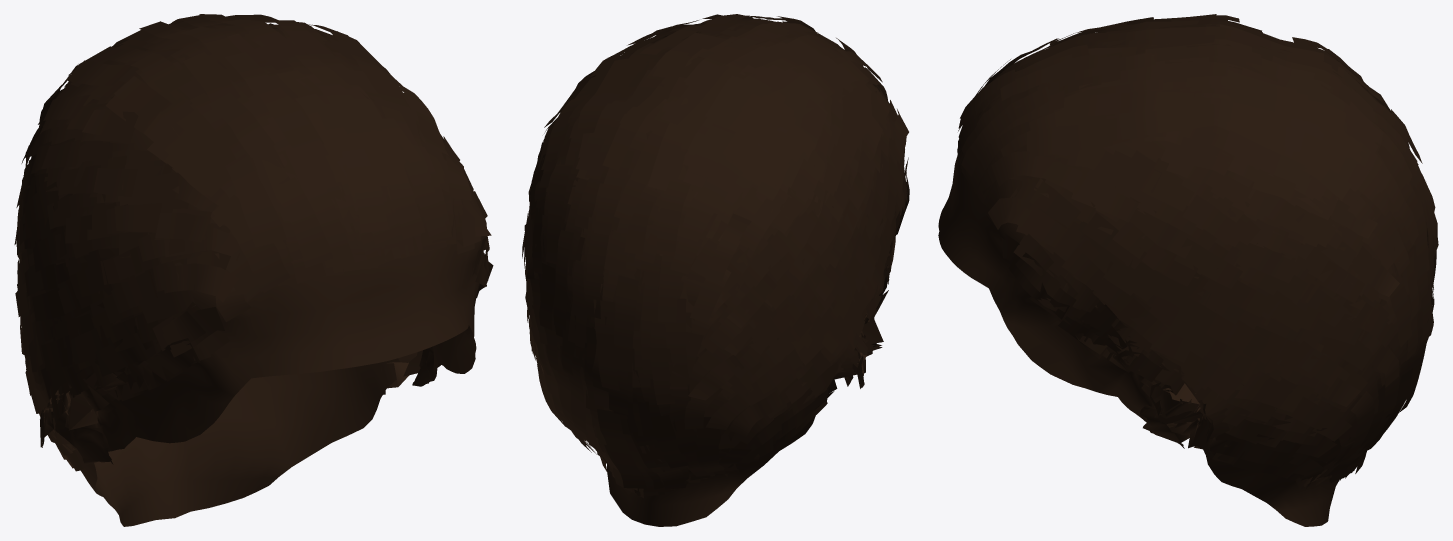
The model's file is hair_short.glb.
The picture shows the model from 3 angles, left to right: view 1: azimuth 30°, elevation 25°; view 2: azimuth 150°, elevation 25°; view 3: azimuth 270°, elevation 25°; orthographic projection. The views are drawn at different scales.
Parts seen in each view (by area): view 1: hair_short; view 2: hair_short; view 3: hair_short.
Part boxes in pixels (bbox=[...]): hair_short: bbox=[14, 14, 493, 526]; hair_short: bbox=[522, 14, 909, 526]; hair_short: bbox=[938, 14, 1438, 526].
Bounding box in the file's own units: 0.1902 × 0.2404 × 0.229.
